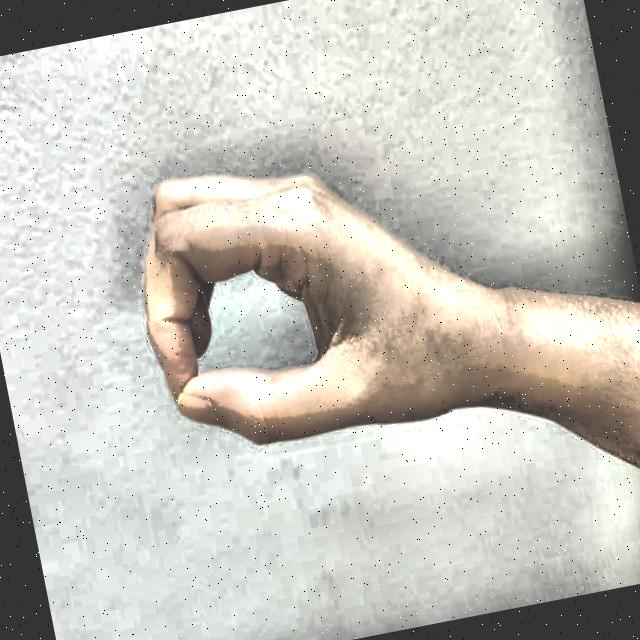O: (94, 94, 479, 522)
